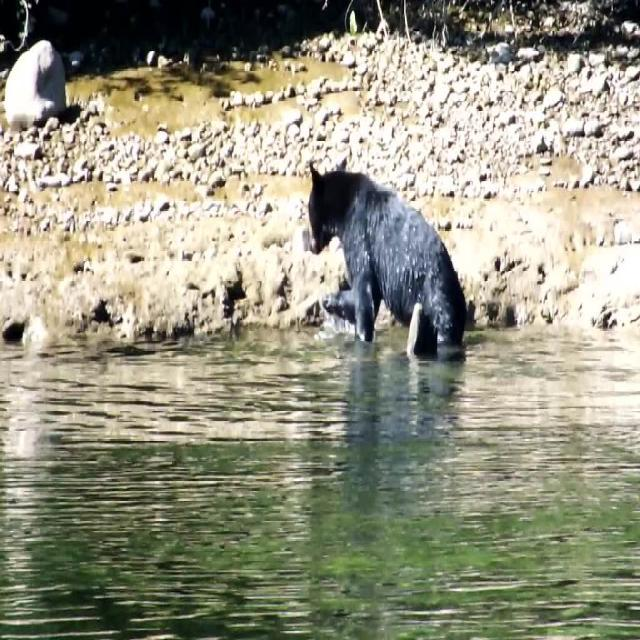Buffalo: (303, 158, 468, 363)
